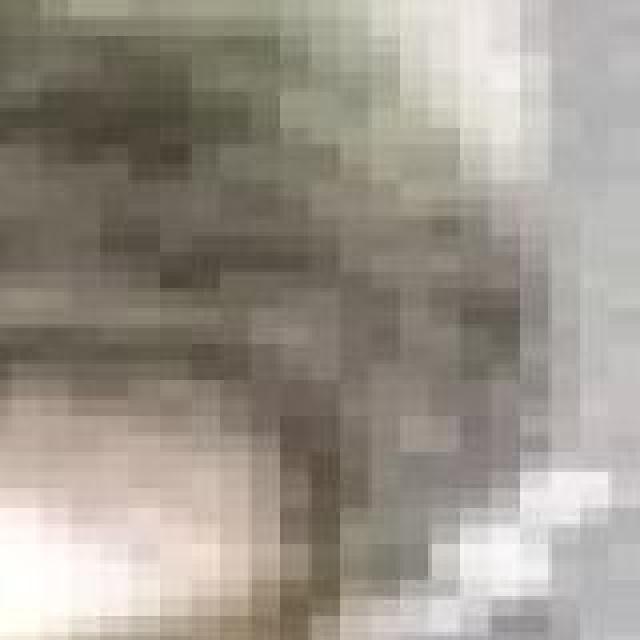capacitor: (0, 104, 500, 640)
